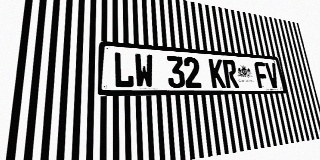2: (183, 57, 202, 88)
3: (166, 55, 185, 88)
F: (254, 62, 270, 88)
K: (208, 58, 226, 88)
L: (113, 52, 134, 88)
R: (222, 59, 239, 88)
V: (265, 62, 280, 88)
W: (134, 53, 154, 88)
